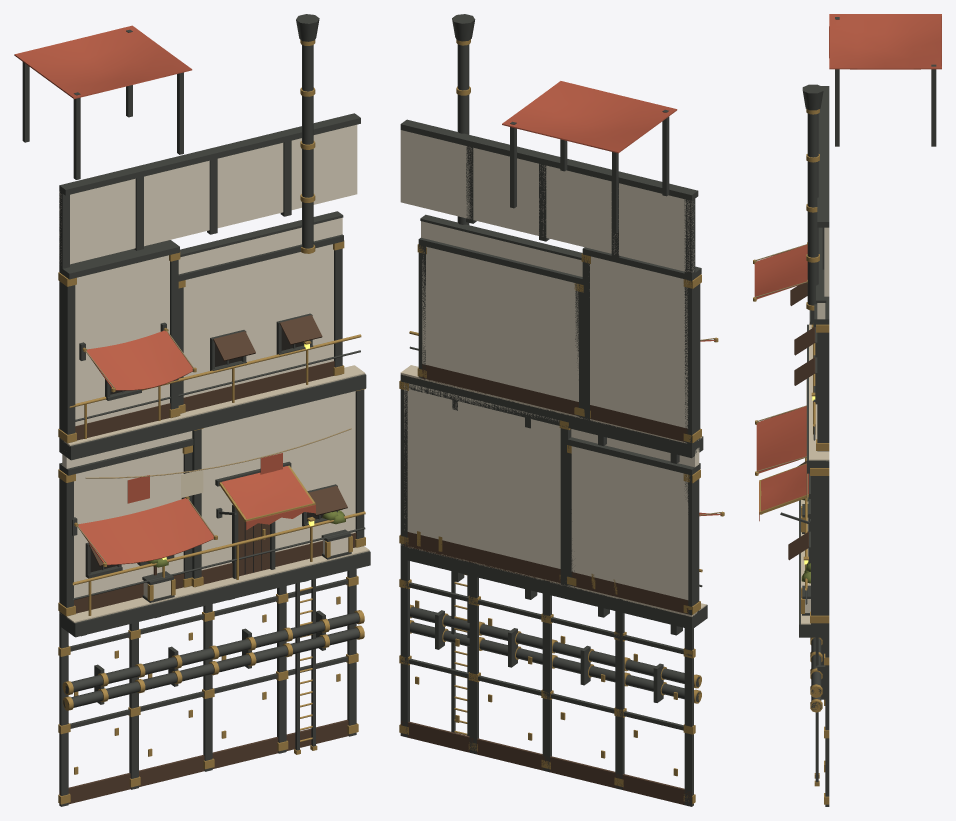
The model's file is terrace_b.glb.
3 views of the same model, side by side, from view 1: azimuth 30°, elevation 25°; view 2: azimuth 150°, elevation 25°; view 3: azimuth 270°, elevation 25° (orthographic). The views are drawn at different scales.
Visible parts, largest first — view 1: terrace_b; view 2: terrace_b; view 3: terrace_b.
Part boxes in pixels (x1,y1,x2,y2): terrace_b: (14,14,370,806); terrace_b: (399,14,724,806); terrace_b: (753,14,941,806).
Size of the model in its own units: 8.06 by 19 by 4.7.
